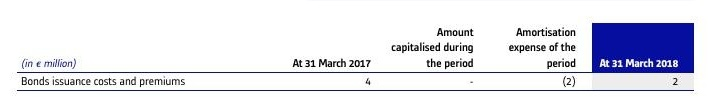table: (0, 0, 712, 110)
